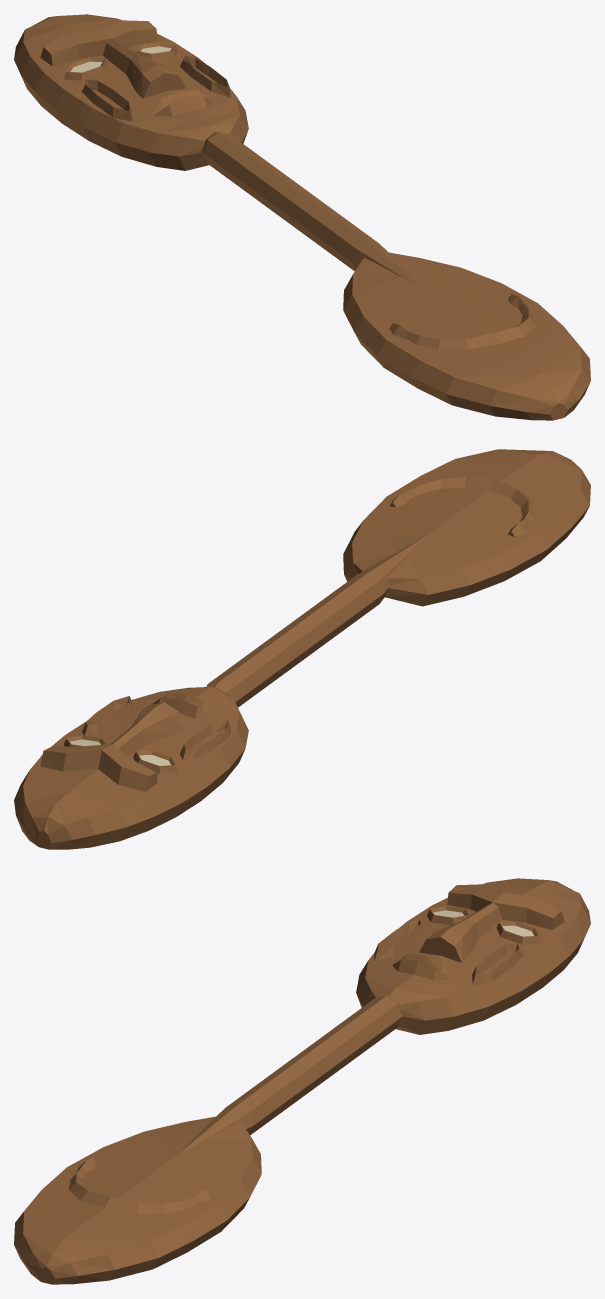
File: ao-dance-paddle-8b36c4.glb
The picture shows the model from 3 angles, top to bottom: view 1: azimuth 30°, elevation 25°; view 2: azimuth 150°, elevation 25°; view 3: azimuth 330°, elevation 25°; orthographic projection.
Parts seen in each view (by area): view 1: ao-body; view 2: ao-body; view 3: ao-body.
Boxes of the visible parts, bbox=[...] form: ao-body: bbox=[14, 14, 590, 420]; ao-body: bbox=[14, 449, 590, 849]; ao-body: bbox=[14, 878, 590, 1284].
Bounding box in the file's own units: 0.38 × 0.128 × 2.
